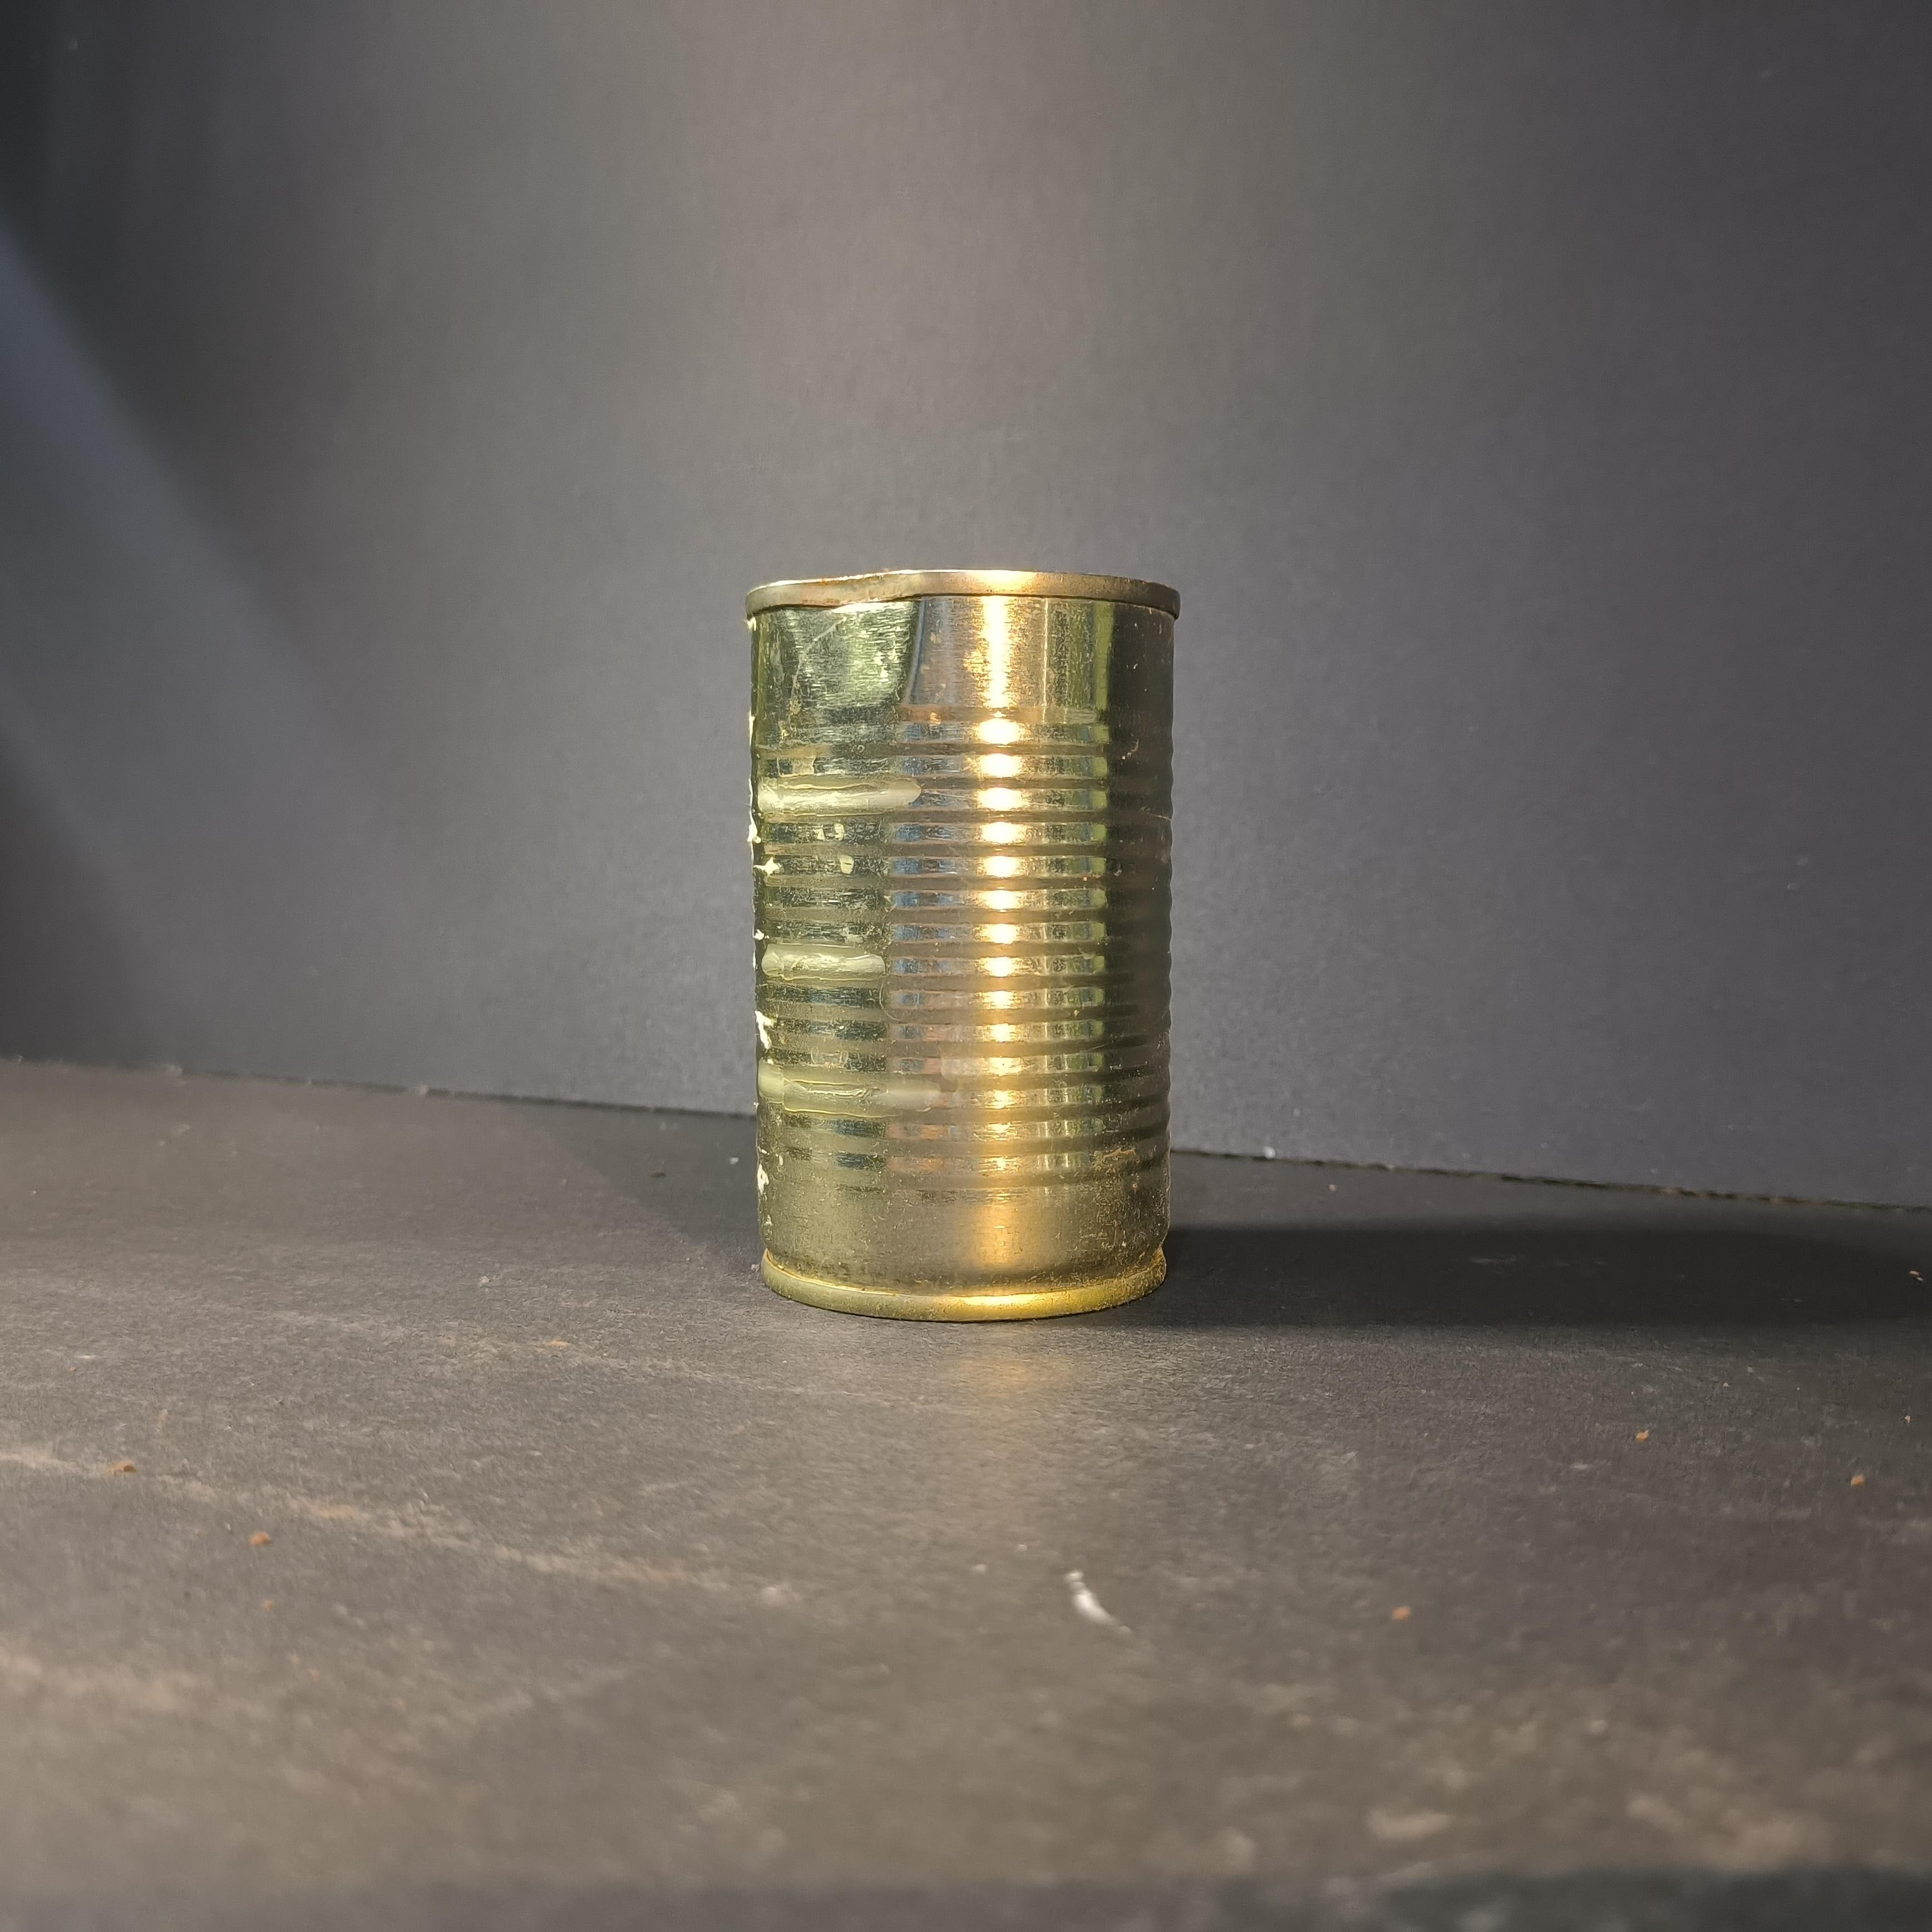Dented: (738, 524, 1194, 1318)
